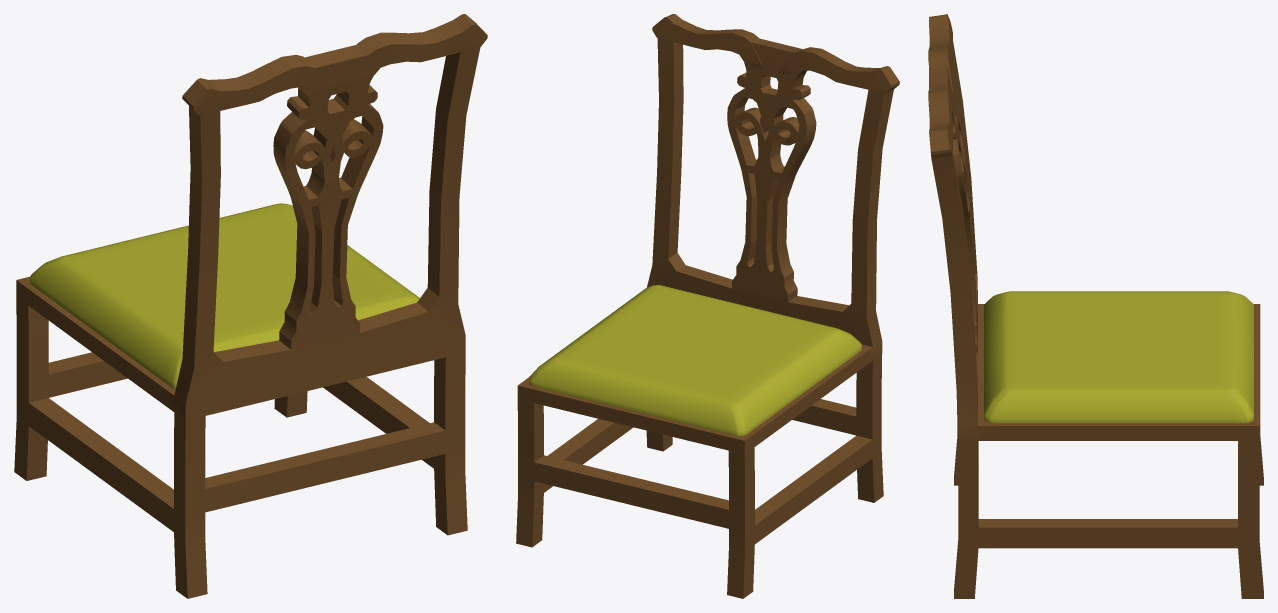
The model's file is Copy of Chair.fbx.
3 views of the same model, side by side, from view 1: azimuth 30°, elevation 25°; view 2: azimuth 150°, elevation 25°; view 3: azimuth 270°, elevation 25° (orthographic). The views are drawn at different scales.
Parts seen in each view (by area): view 1: pCube145; view 2: pCube145; view 3: pCube145.
Part boxes in pixels (box(x1,y1,x2,y2)): pCube145: box(14, 14, 487, 598); pCube145: box(516, 14, 899, 598); pCube145: box(928, 14, 1263, 598).
Size of the model in its own units: 0.954 by 1.62 by 1.05.
